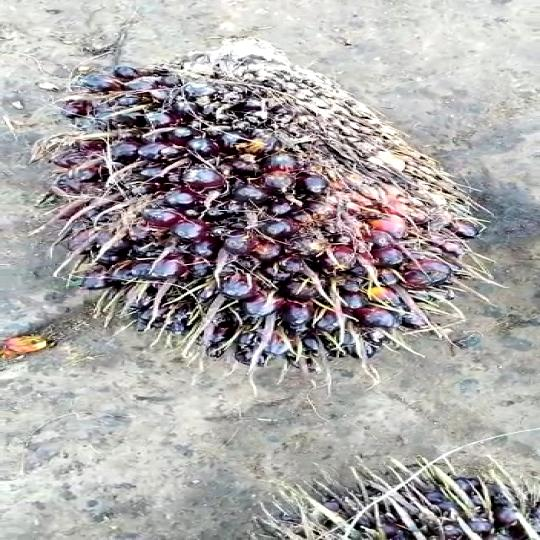mentah: (32, 40, 480, 367)
